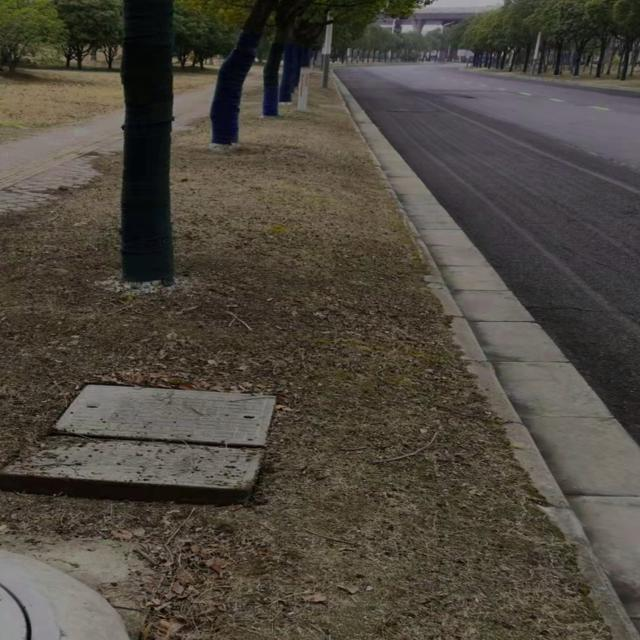good: (0, 549, 48, 640)
uncovered: (0, 381, 279, 499)
